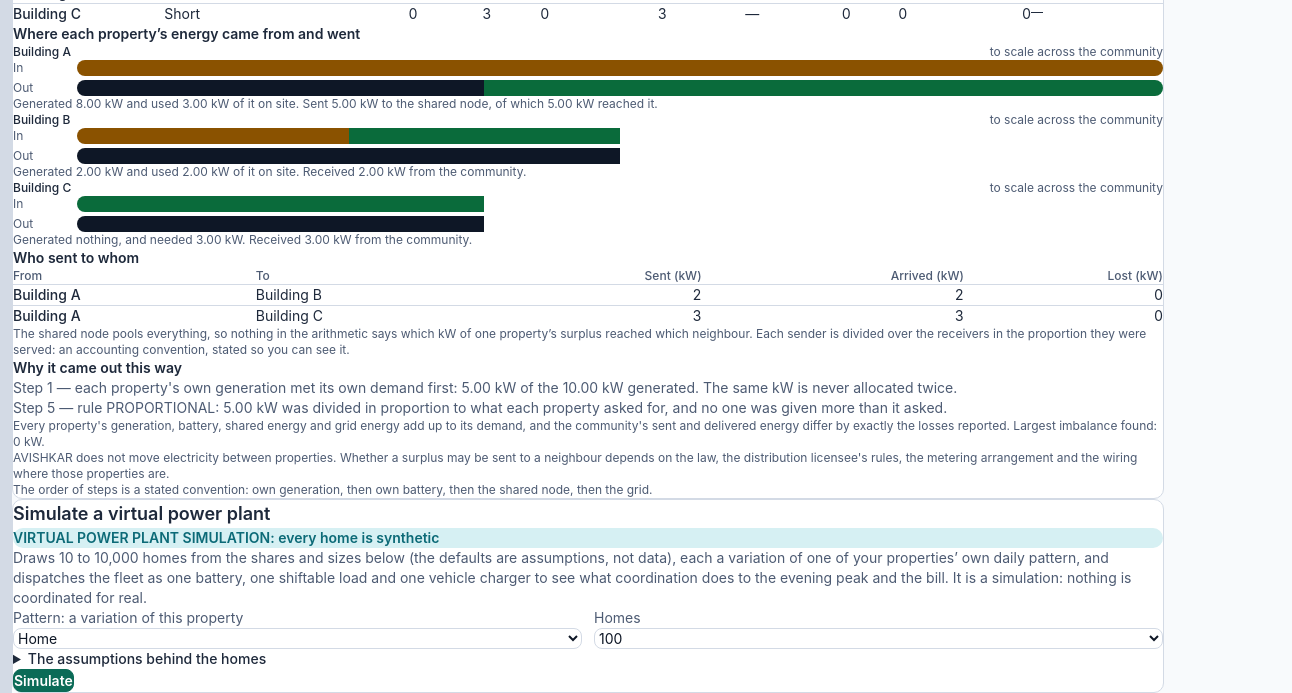
Test: CommunityView: the virtual power plant › simulates with the defaults, sending only the pattern and the size, and shows the peak, the bill and the assumptions
(page scrolled)
Expected: the form named "Simulate a virtual power plant" is shown, [13,608,1163,692]
Click the button "Simulate" at (43, 681), box [13,669,74,692]
(page scrolled)
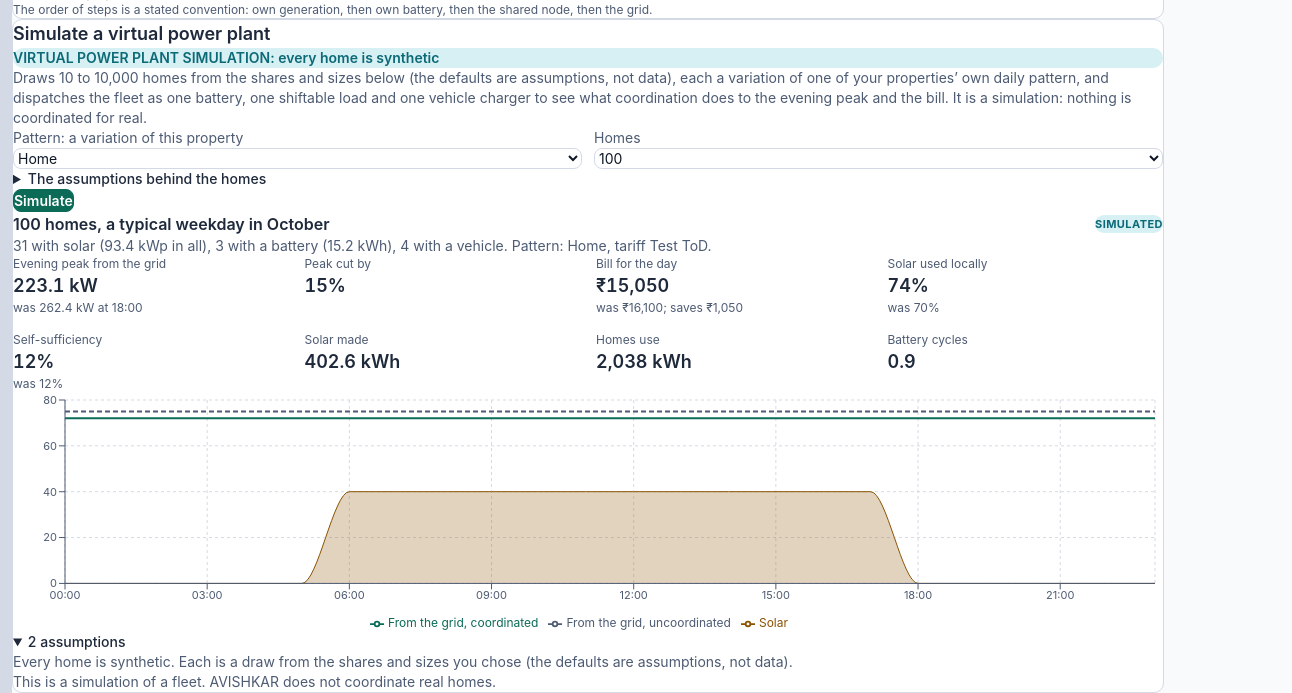
Result: the text "SIMULATED" is shown at [1095,215,1163,233]
Result: the text "223.1 kW" is shown at [13,275,98,296]
Result: the text "was 262.4 kW at 18:00" is shown at [13,300,143,315]
